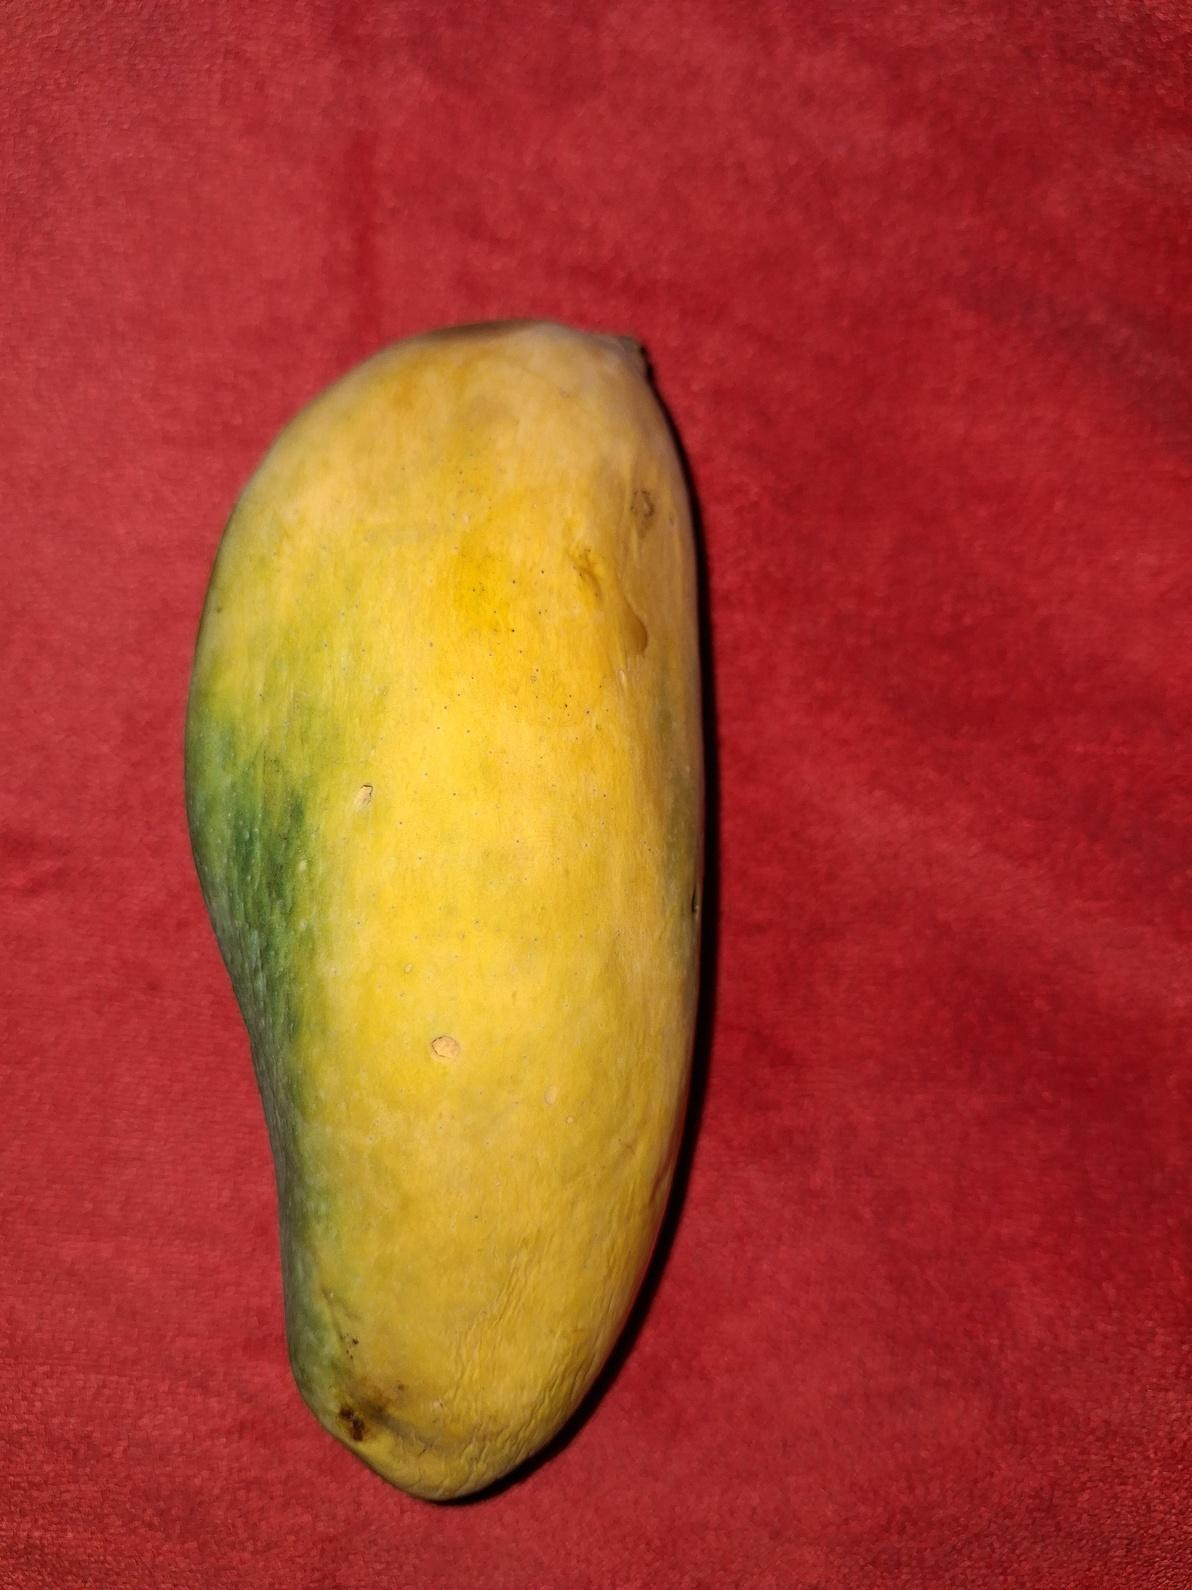mango: (182, 315, 706, 1501)
